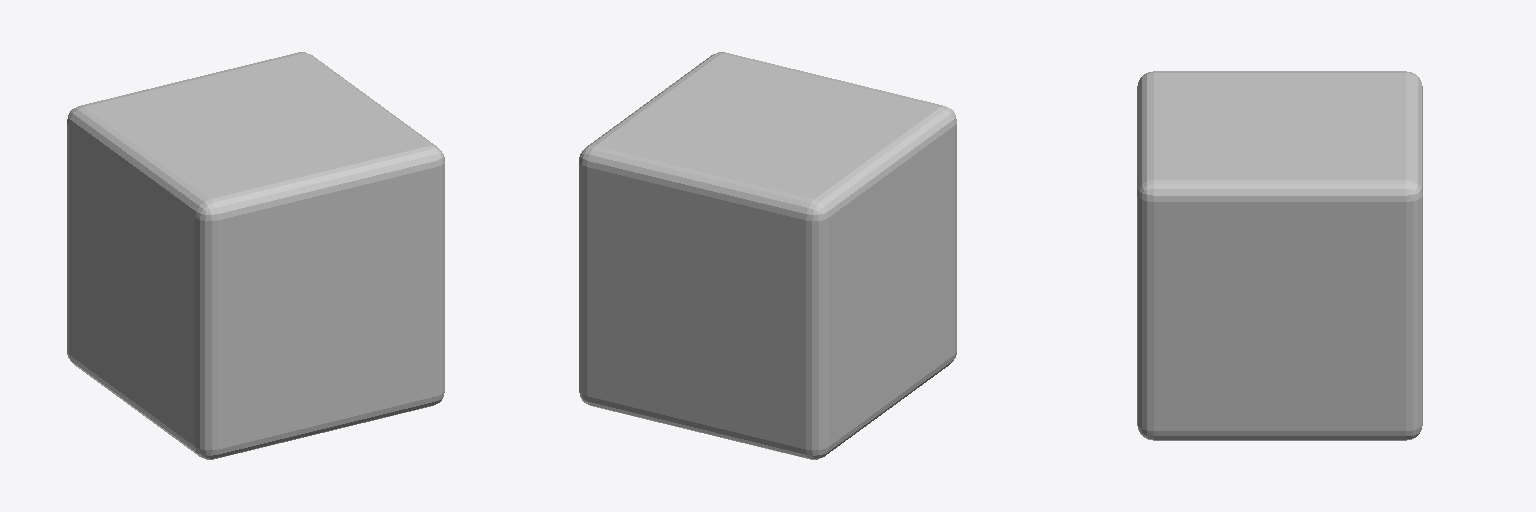
The model's file is bevel_cube.obj.
3 renders of one model, left to right at view 1: azimuth 30°, elevation 25°; view 2: azimuth 150°, elevation 25°; view 3: azimuth 270°, elevation 25°, orthographic.
Parts seen in each view (by area): view 1: Cube; view 2: Cube; view 3: Cube.
Part boxes in pixels (x1,y1,x2,y2): Cube: (67, 52, 444, 459); Cube: (579, 52, 956, 459); Cube: (1137, 71, 1422, 440).
Size of the model in its own units: 2 by 2 by 2.